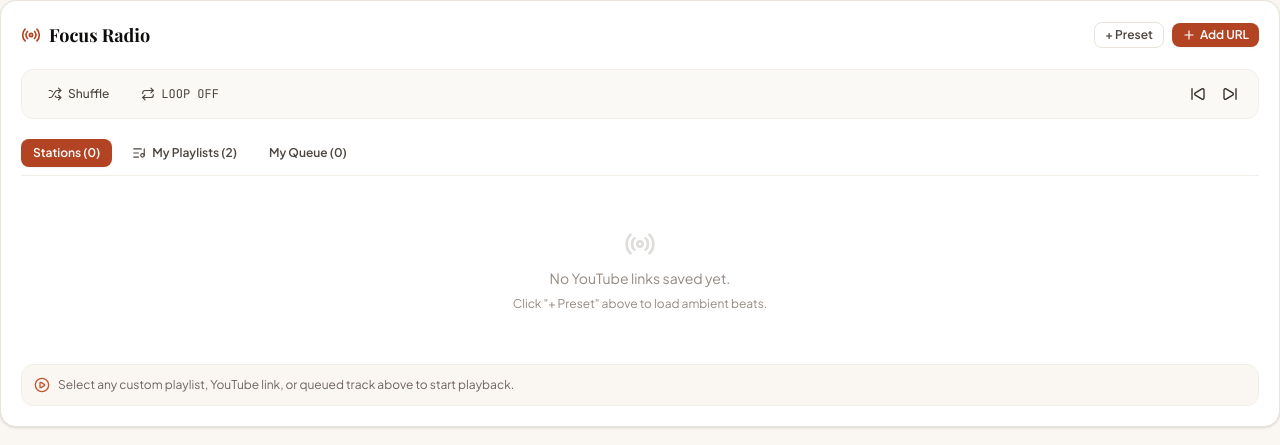
Milestone 8: Focus Radio, Calendar Export & Remaining Settings › Focus Radio Player in FocusView › cycles loop modes (Loop Off -> Loop All -> Loop 1 -> Loop Off)
This screenshot has width=1280, height=445.
Expected: the text "Loop Off" is shown, top-left (161, 86), bottom-right (219, 102)
// Click to cycle to Loop All
Click the button titled "loop: off" at (180, 94), box top-left (129, 80), bottom-right (231, 108)
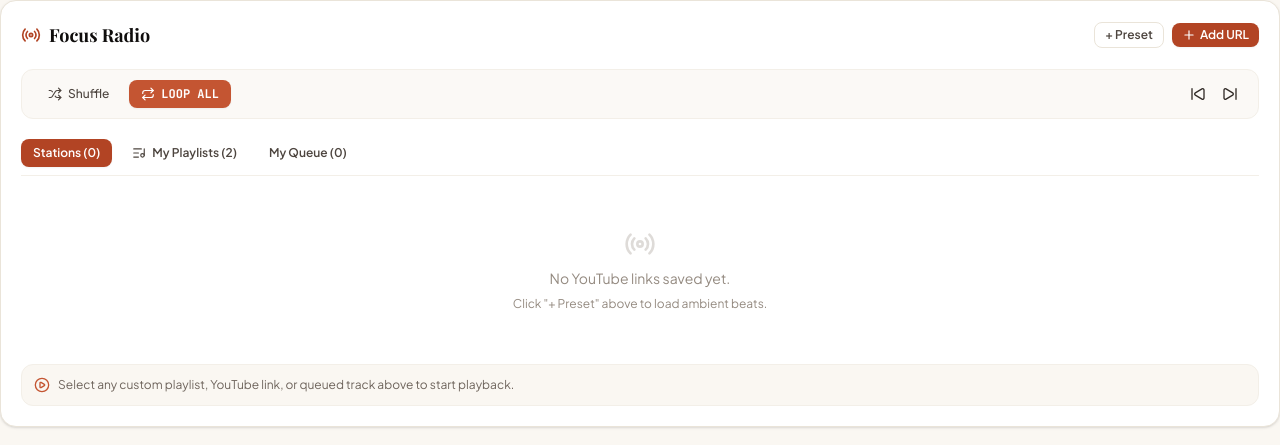
Now the text "Loop All" is shown, box top-left (161, 86), bottom-right (219, 102)
// Click to cycle to Loop 1
Click the button titled "loop: all" at (180, 94), box top-left (129, 80), bottom-right (231, 108)
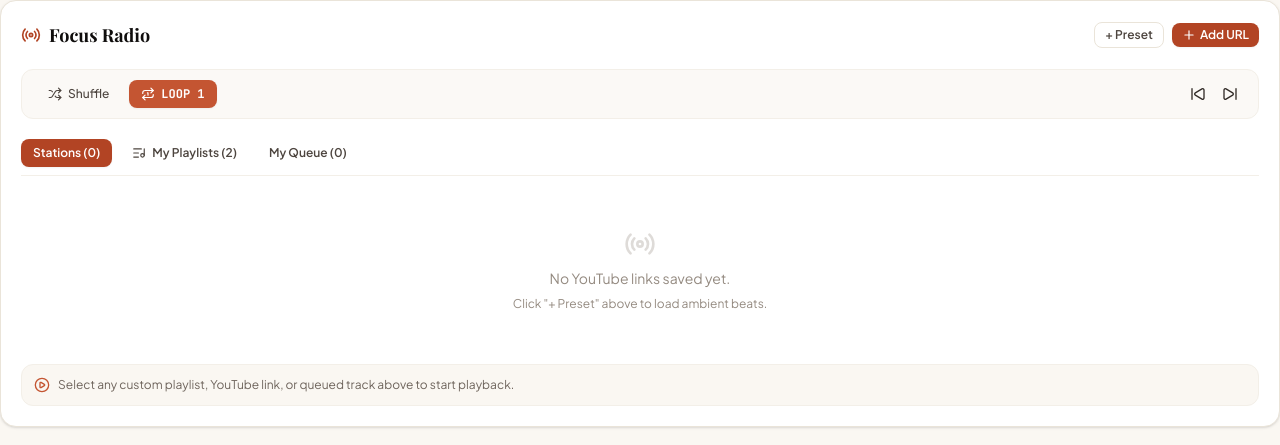
Now the text "Loop 1" is shown, box top-left (161, 86), bottom-right (204, 102)
// Click to cycle back to Loop Off
Click the button titled "loop: current track" at (173, 94), box top-left (129, 80), bottom-right (216, 108)
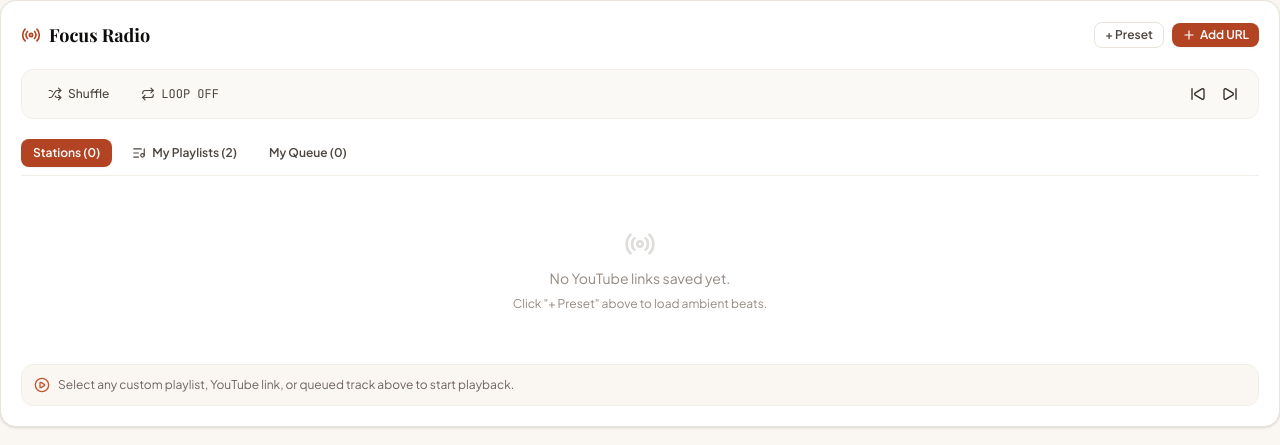
Now the text "Loop Off" is shown, box top-left (161, 86), bottom-right (219, 102)
